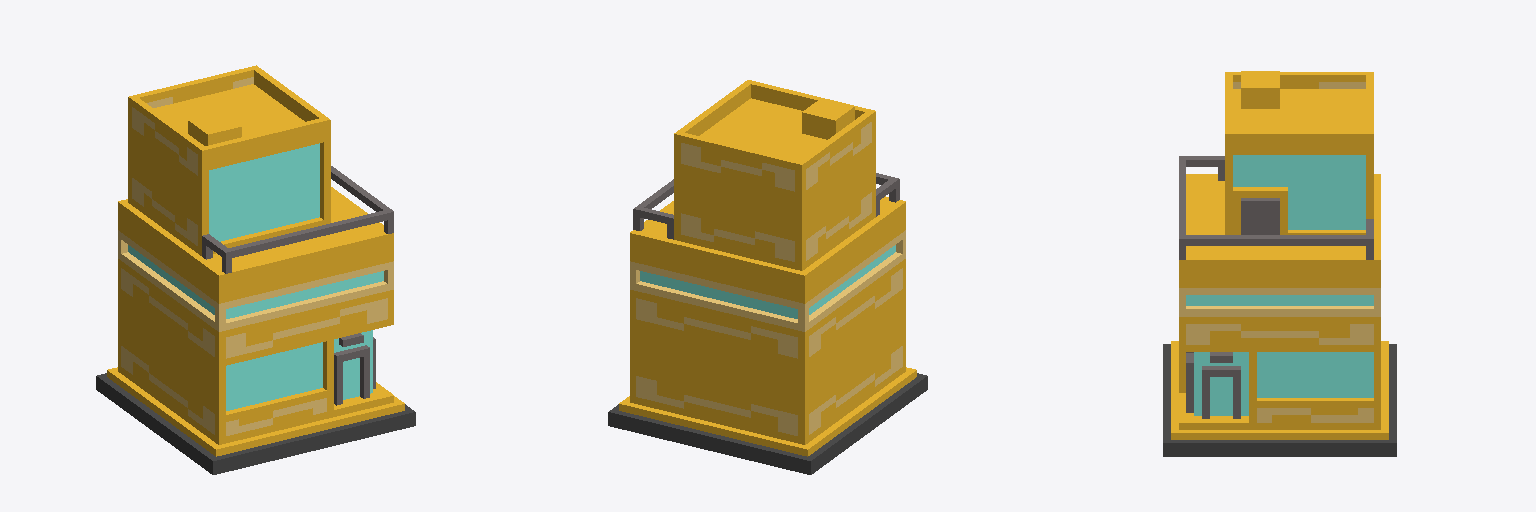
3 renders of one model, left to right at view 1: azimuth 30°, elevation 25°; view 2: azimuth 150°, elevation 25°; view 3: azimuth 270°, elevation 25°, orthographic.
Bounding box in the file's own units: 30 × 43 × 30.
1 materials, 1 textured.